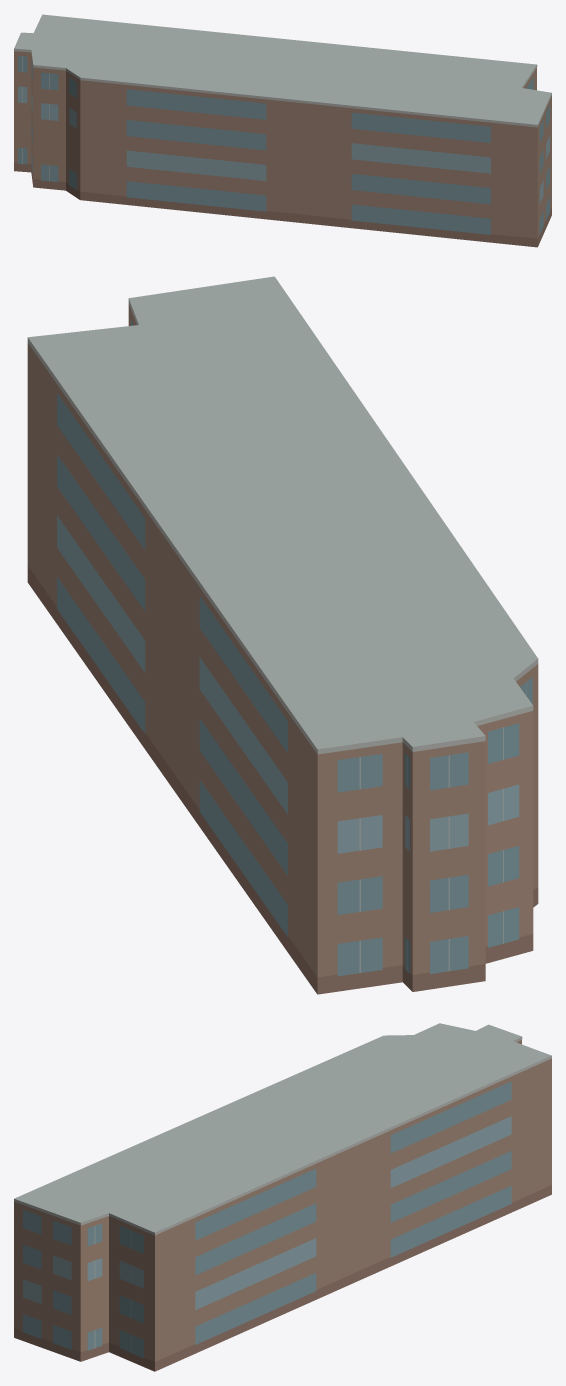
Rendered from survey-upis-32876759.glb.
3 renders of one model, top to bottom at view 1: azimuth 30°, elevation 25°; view 2: azimuth 150°, elevation 25°; view 3: azimuth 270°, elevation 25°, orthographic. The views are drawn at different scales.
Parts seen in each view (by area): view 1: survey-upis-32876759.tmp; view 2: survey-upis-32876759.tmp; view 3: survey-upis-32876759.tmp.
Part boxes in pixels (x1,y1,x2,y2): survey-upis-32876759.tmp: (14,14,551,247); survey-upis-32876759.tmp: (27,276,538,994); survey-upis-32876759.tmp: (14,1023,551,1371).
Bounding box in the file's own units: 38.47 × 11.9 × 41.74.
